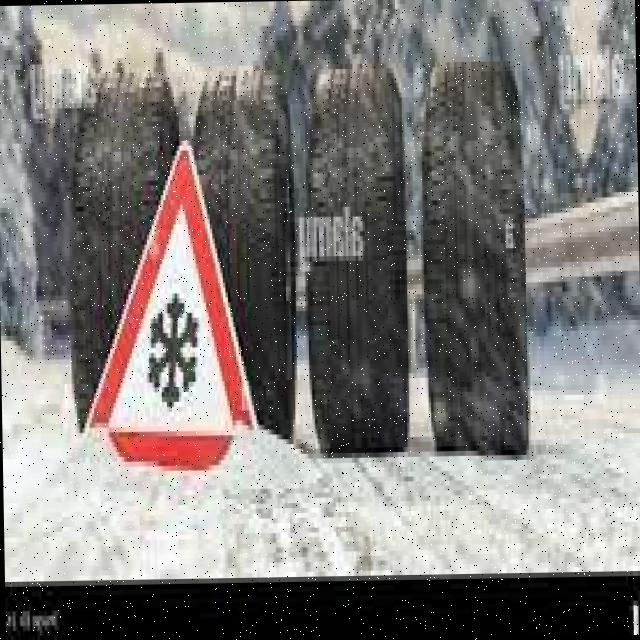snow_warning: (69, 140, 270, 482)
